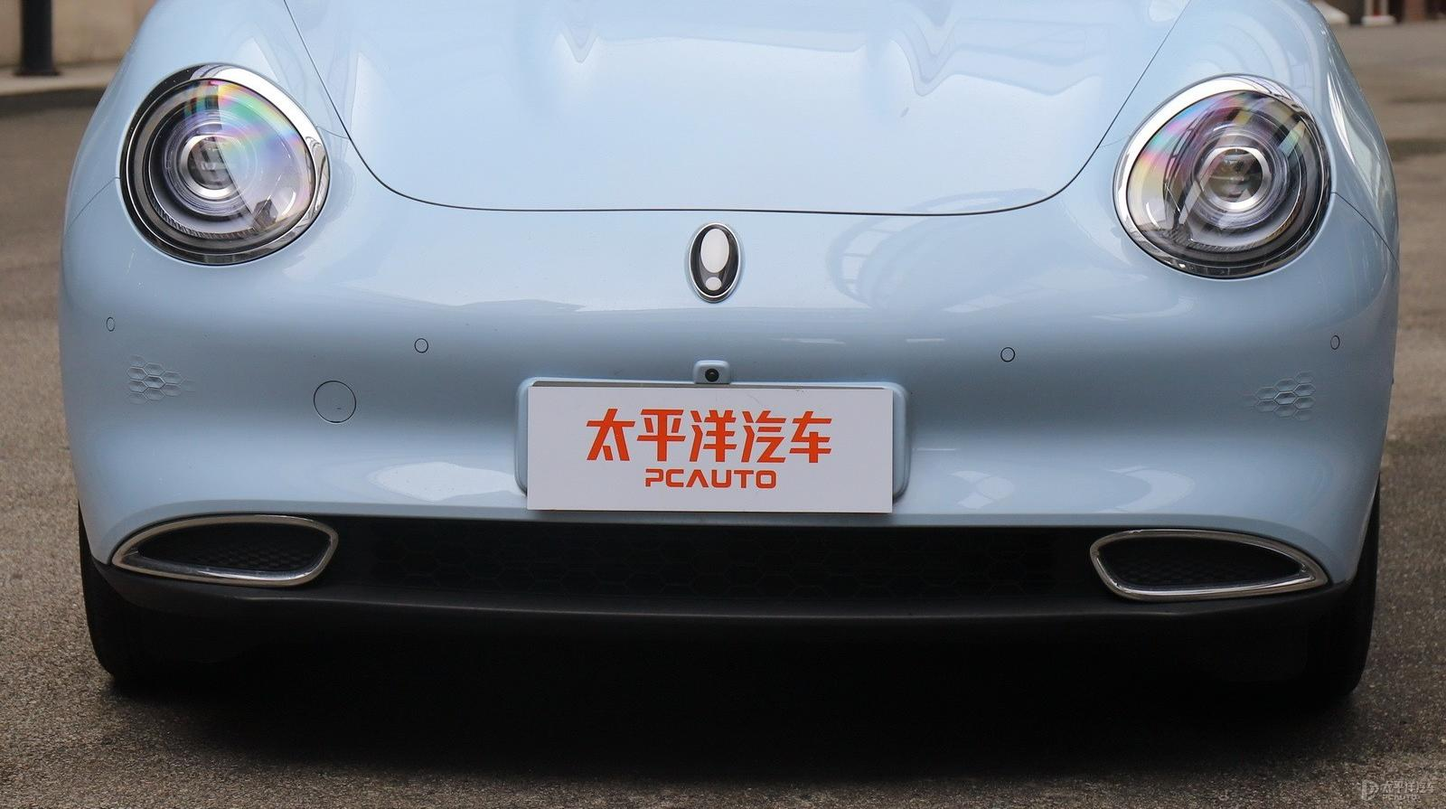ORA: (690, 223, 741, 302)
